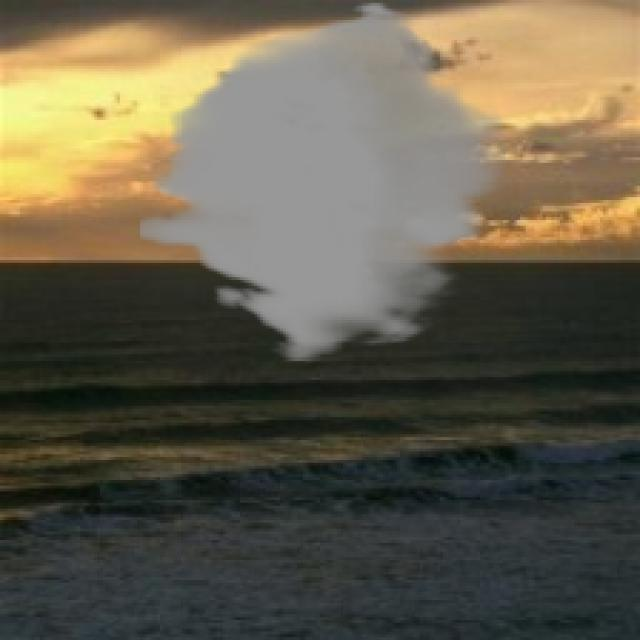smoke: (140, 0, 506, 363)
